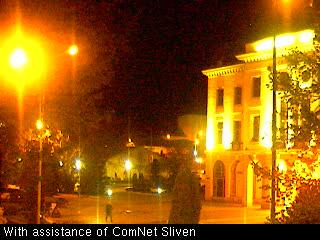person: (105, 201, 114, 223)
